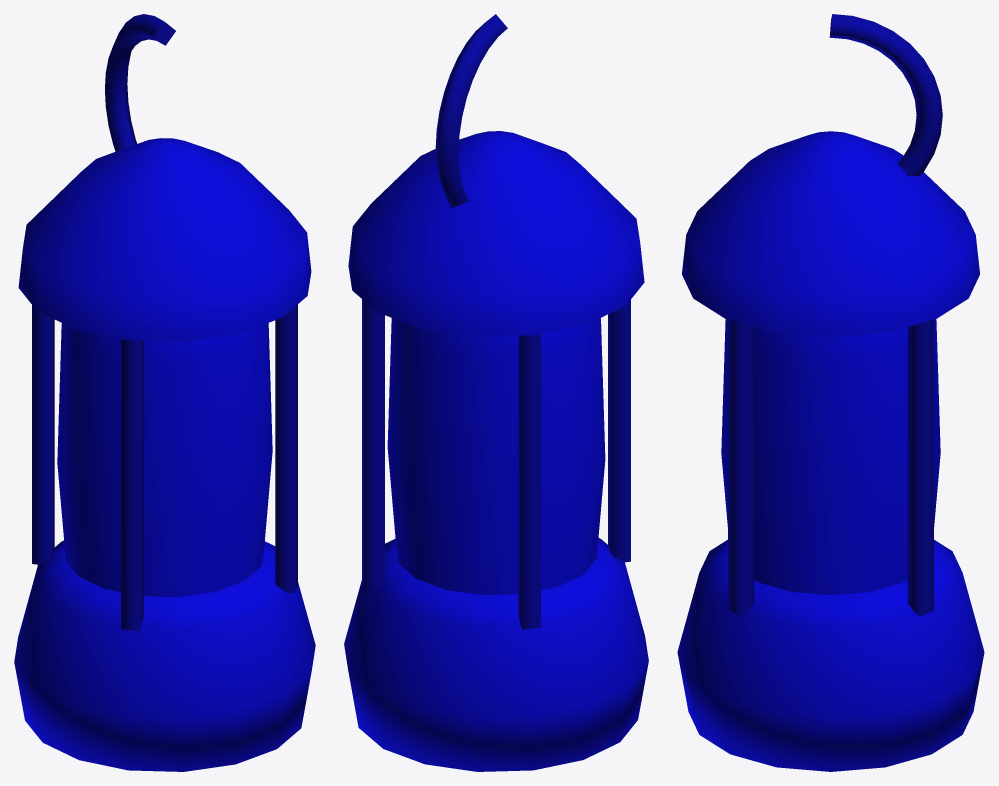
The model's file is diver_lantern.glb.
The picture shows the model from 3 angles, left to right: view 1: azimuth 30°, elevation 25°; view 2: azimuth 150°, elevation 25°; view 3: azimuth 270°, elevation 25°; orthographic projection.
Parts seen in each view (by area): view 1: diver_lantern; view 2: diver_lantern; view 3: diver_lantern.
Boxes of the visible parts, box(x1,y1,x2,y2) form: diver_lantern: box(14, 14, 315, 771); diver_lantern: box(344, 14, 648, 771); diver_lantern: box(677, 14, 984, 771).
Size of what is drawn, in the model's own units: 0.14 by 0.351 by 0.14.
